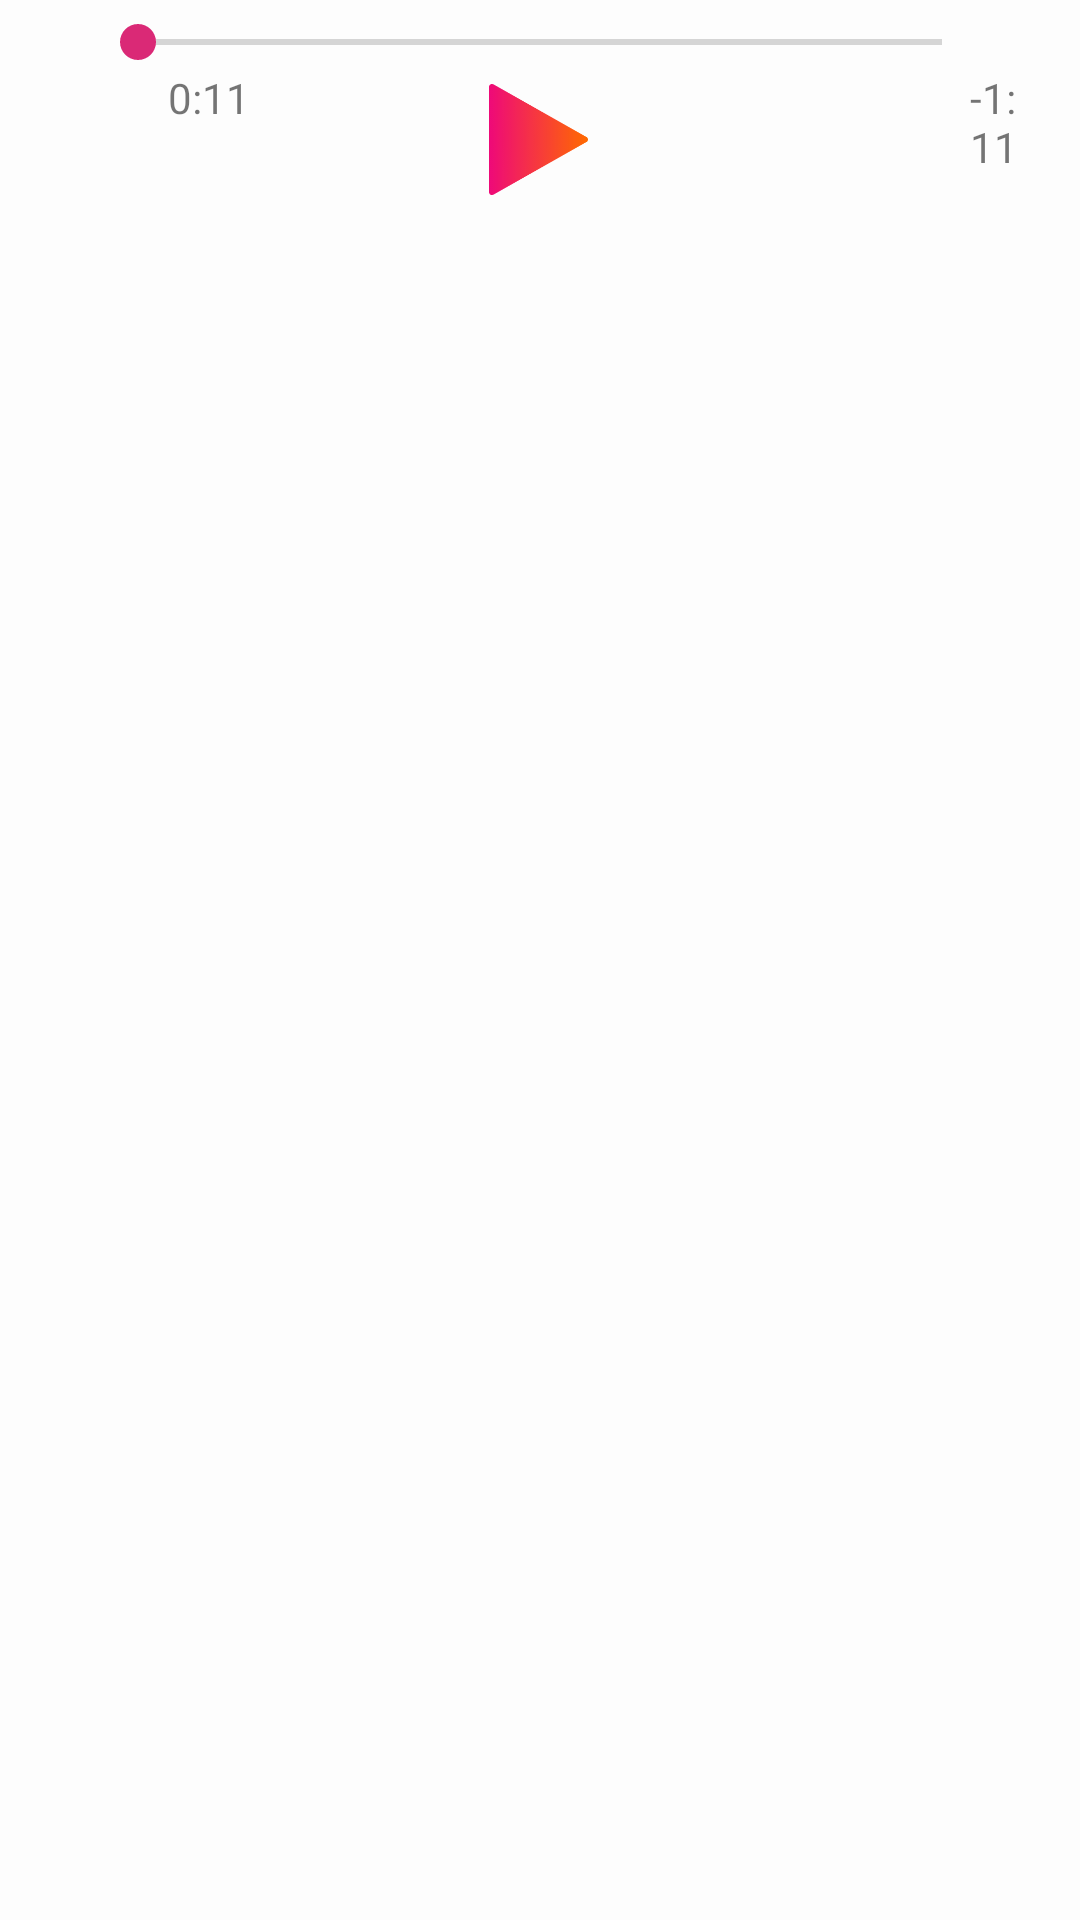

Screen size 1080x1920. Icon name, then its box in pixels as {"x1": x1, "y1": y1, "x2": x2, "y2": y2}:
iconeplay: {"x1": 489, "y1": 84, "x2": 588, "y2": 195}
